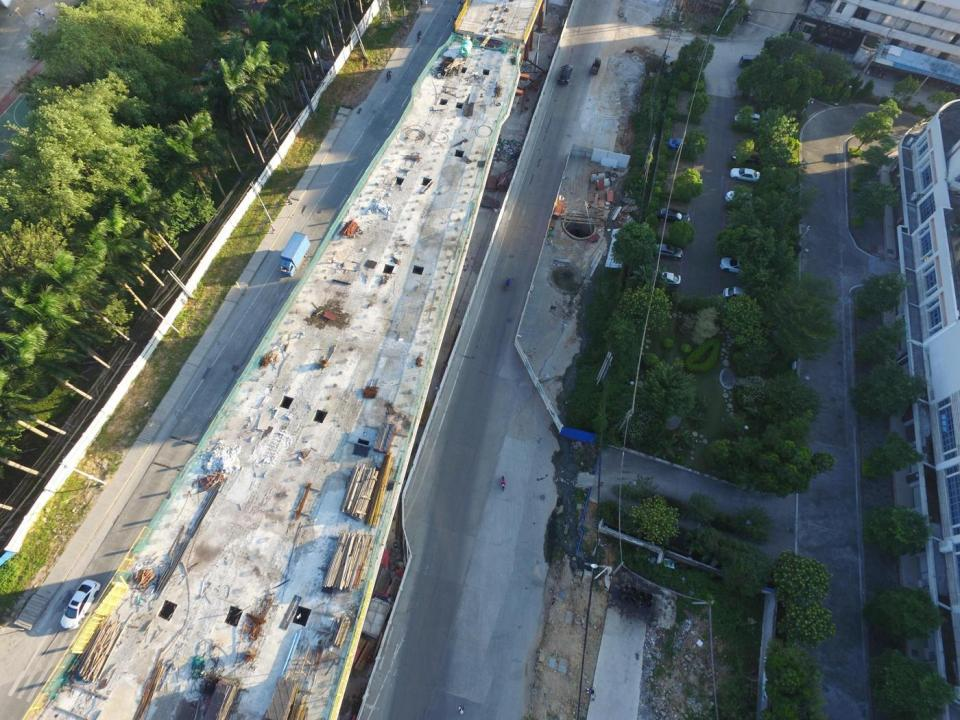car: (59, 578, 101, 631), (717, 255, 756, 276), (654, 205, 691, 226), (652, 241, 684, 261), (724, 188, 760, 204), (723, 285, 757, 301), (651, 268, 681, 286), (730, 166, 761, 182), (732, 109, 760, 126), (732, 148, 762, 162), (668, 135, 695, 150), (556, 64, 574, 85)
truck: (278, 230, 310, 277), (588, 56, 604, 74)
van: (739, 54, 765, 69)
